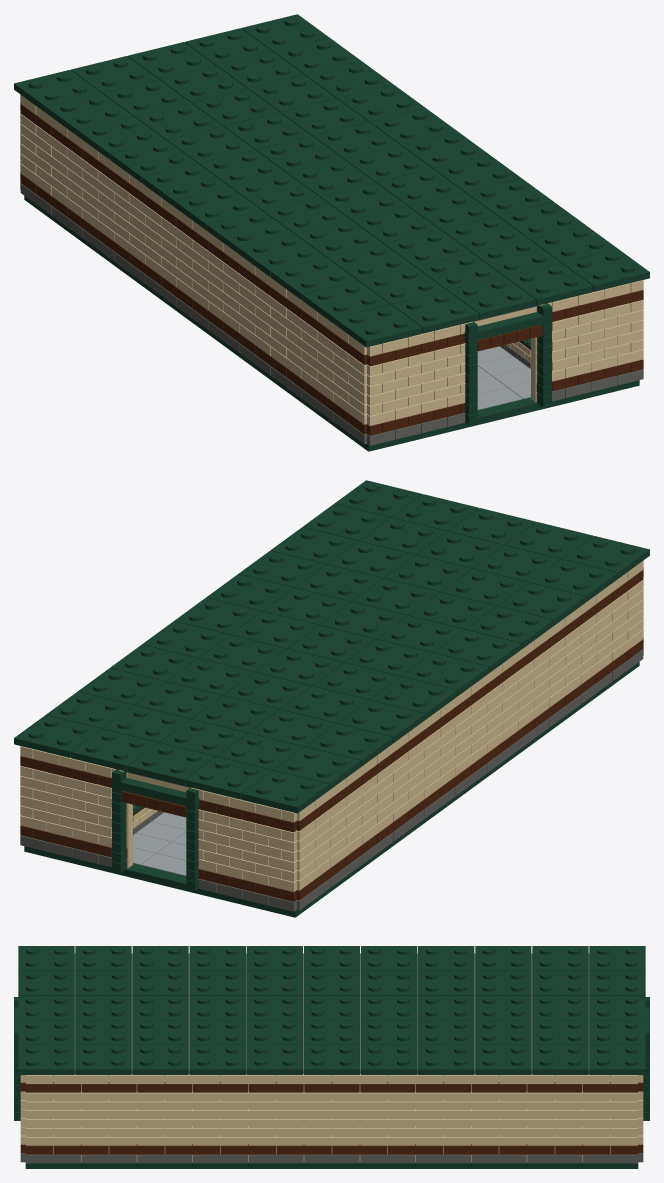
Rendered from LegoAquarium.dae.
The picture shows the model from 3 angles, top to bottom: view 1: azimuth 30°, elevation 25°; view 2: azimuth 150°, elevation 25°; view 3: azimuth 270°, elevation 25°; orthographic projection. The views are drawn at different scales.
Parts seen in each view (by area): view 1: Tank trim, Dark slate, Reddish brown brick, Ceiling, Floor tile; view 2: Tank trim, Dark slate, Reddish brown brick, Ceiling, Floor tile; view 3: Tank trim, Dark slate, Reddish brown brick, Ceiling.
Boxes of the visible parts, x1,y1,x2,y2 form: Tank trim: [14, 14, 649, 451]; Dark slate: [20, 94, 643, 425]; Reddish brown brick: [20, 101, 643, 435]; Ceiling: [20, 181, 643, 445]; Floor tile: [477, 346, 530, 409]; Tank trim: [14, 480, 649, 917]; Dark slate: [20, 560, 643, 891]; Reddish brown brick: [20, 567, 643, 901]; Ceiling: [20, 647, 643, 911]; Floor tile: [133, 812, 186, 875]; Tank trim: [14, 946, 649, 1168]; Dark slate: [20, 1074, 643, 1161]; Reddish brown brick: [20, 1082, 643, 1154]; Ceiling: [20, 953, 643, 1163].
Bounding box in the file's own units: 10.47 × 4.17 × 22.83.
